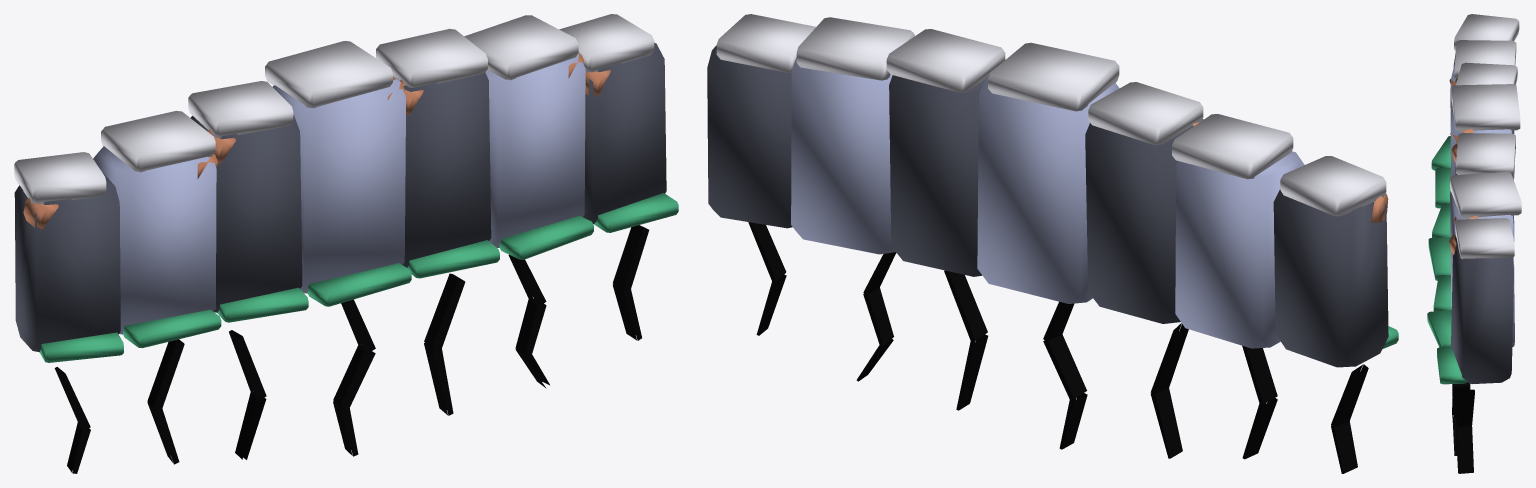
File: bastion.glb
3 renders of one model, left to right at view 1: azimuth 30°, elevation 25°; view 2: azimuth 150°, elevation 25°; view 3: azimuth 270°, elevation 25°, orthographic. The views are drawn at different scales.
Visible parts, largest first — view 1: slab-3, slab-5, slab-1, slab-2, slab-6, slab-4, slab-0, glow-seam-3, glow-seam-2, glow-seam-1, glow-seam-0, glow-seam-4 (+2 smaller); view 2: slab-3, slab-5, slab-1, slab-6, slab-2, slab-4, slab-0, glow-seam-3, glow-seam-2, glow-seam-4, glow-seam-5, glow-seam-6 (+2 smaller); view 3: slab-0, slab-3, slab-1, slab-2, slab-5, slab-6, slab-4, glow-seam-0, glow-seam-1.
Part boxes in pixels (<box>): slab-3: <box>265,41,411,306</box>; slab-5: <box>93,110,221,348</box>; slab-1: <box>464,15,593,259</box>; slab-2: <box>376,28,499,278</box>; slab-6: <box>14,152,123,362</box>; slab-4: <box>188,81,308,322</box>; slab-0: <box>559,14,678,232</box>; glow-seam-3: <box>333,299,375,456</box>; glow-seam-2: <box>424,273,465,415</box>; glow-seam-1: <box>508,254,549,388</box>; glow-seam-0: <box>612,225,649,340</box>; glow-seam-4: <box>229,330,266,459</box>; slab-3: <box>977,42,1119,303</box>; slab-5: <box>1172,114,1304,348</box>; slab-1: <box>791,17,914,254</box>; slab-6: <box>1273,156,1398,367</box>; slab-2: <box>886,29,1005,276</box>; slab-4: <box>1085,82,1203,323</box>; slab-0: <box>707,14,815,228</box>; glow-seam-3: <box>1043,301,1087,449</box>; glow-seam-2: <box>944,270,988,410</box>; glow-seam-4: <box>1150,323,1188,458</box>; glow-seam-5: <box>1242,345,1277,459</box>; glow-seam-6: <box>1331,364,1368,473</box>; slab-0: <box>1437,218,1514,384</box>; slab-3: <box>1428,84,1520,280</box>; slab-1: <box>1427,171,1521,347</box>; slab-2: <box>1433,133,1515,311</box>; slab-5: <box>1435,40,1516,208</box>; slab-6: <box>1431,14,1519,170</box>; slab-4: <box>1432,62,1517,237</box>; glow-seam-0: <box>1455,389,1474,473</box>; glow-seam-1: <box>1452,382,1468,455</box>.
Size of the model in its own units: 3.42 by 1.95 by 0.5664.
